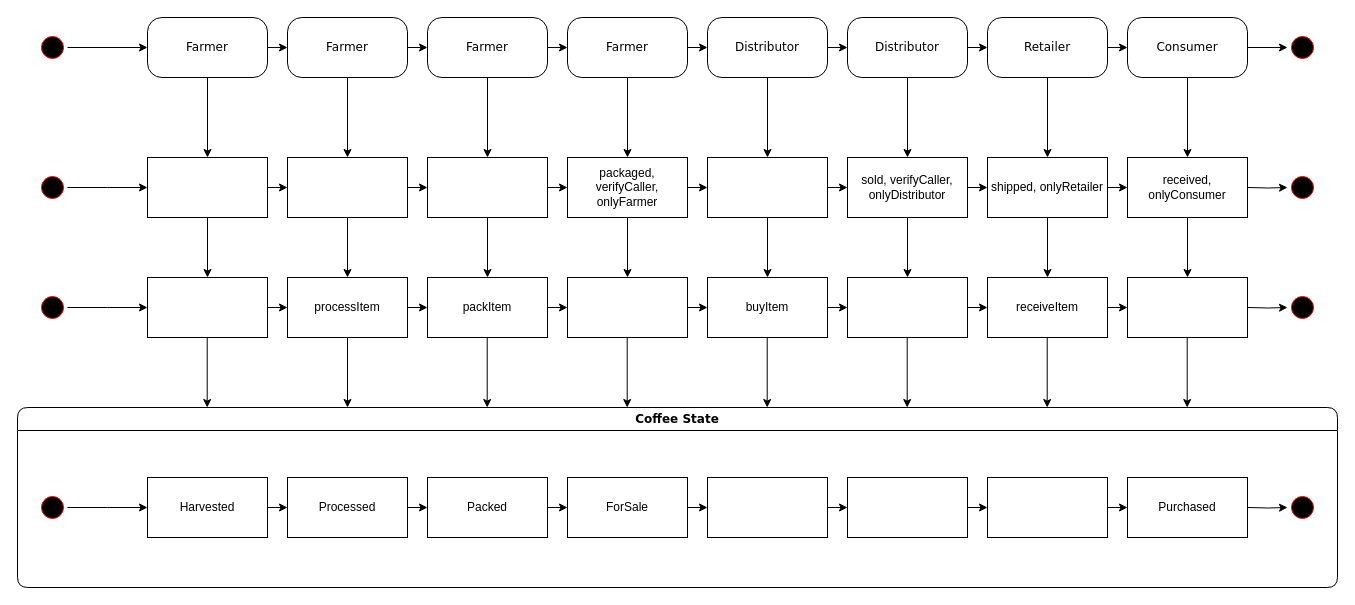
Some shapes in this 1355 by 605 pixel diagram are drawn without their labels. Each missing label, with the centre of its shape:
forSale, paidEnough, checkValue, onlyDistributor: the point at 767,187
harvested, verifyCaller, onlyFarmer: the point at 347,187
harvestItem: the point at 207,307
onlyFarmer: the point at 207,187
processed, verifyCaller, onlyFarmer: the point at 487,187
purchaseItem: the point at 1187,307
Received: the point at 1047,507
sellItem: the point at 627,307
shipItem: the point at 907,307
Shipped: the point at 907,507
Sold: the point at 767,507
